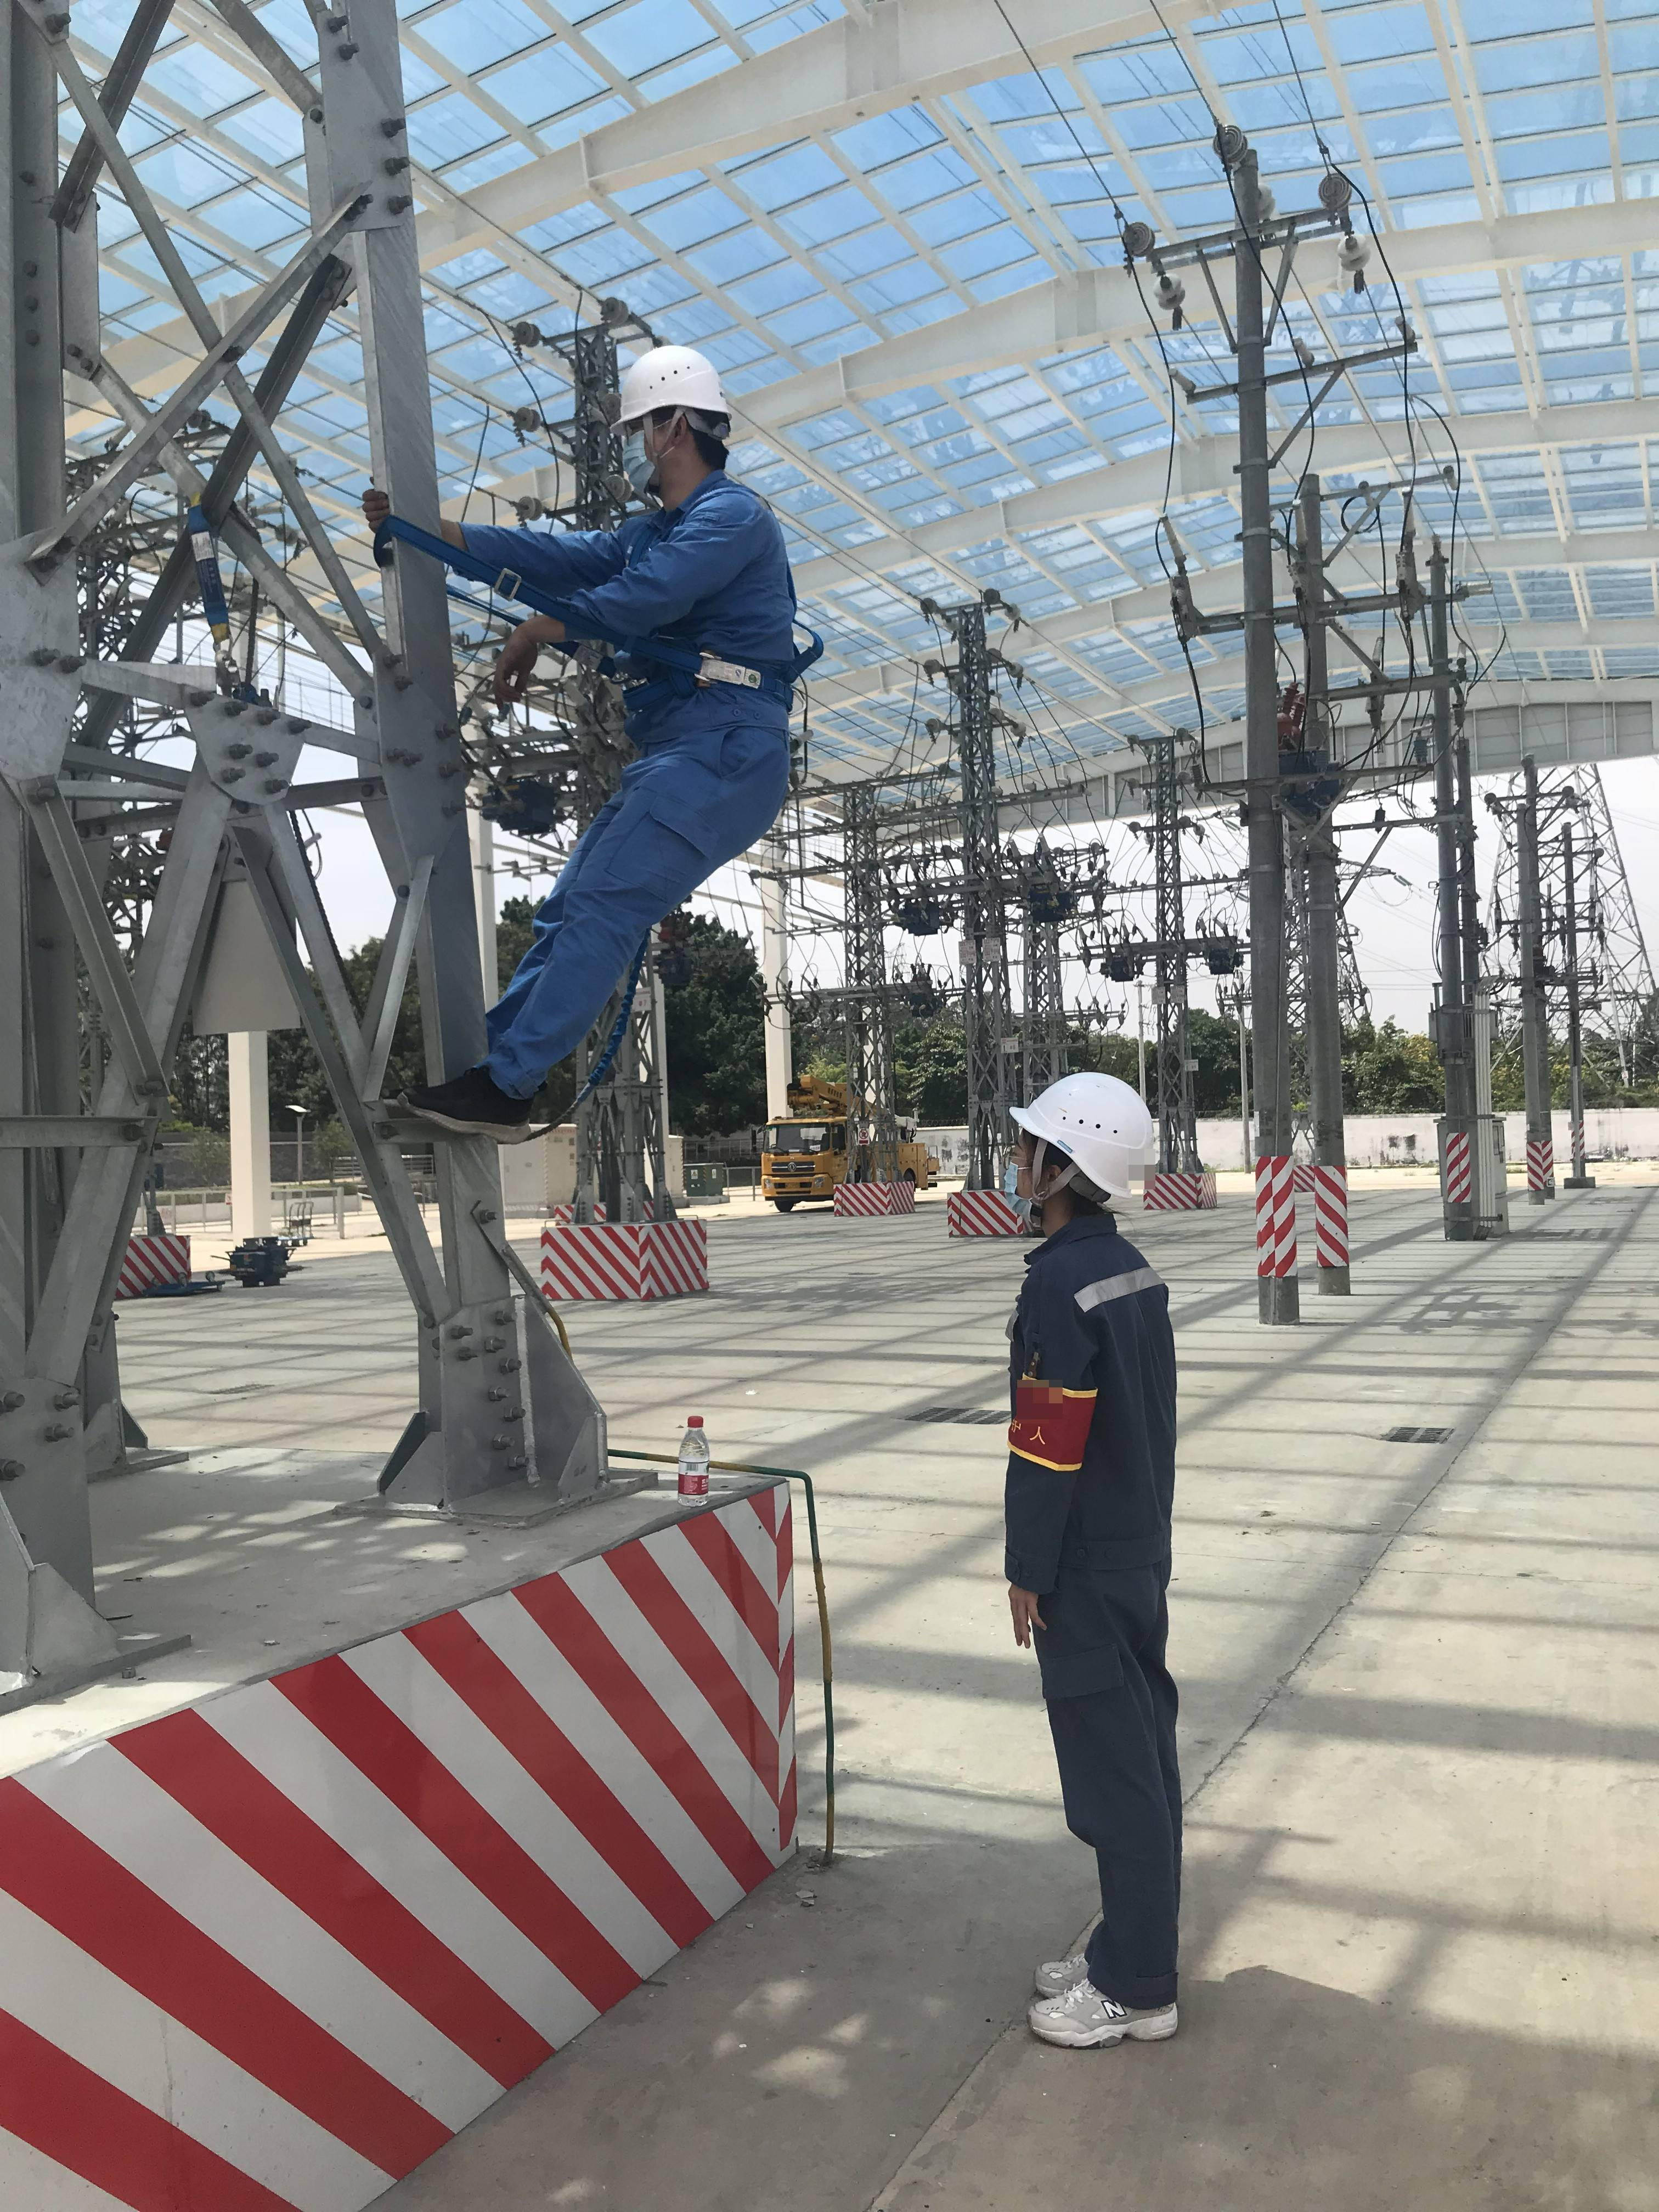downsuit: (462, 761, 789, 1099), (1016, 1576, 1175, 1998)
upsuit: (519, 475, 795, 747), (1002, 1249, 1150, 1550)
